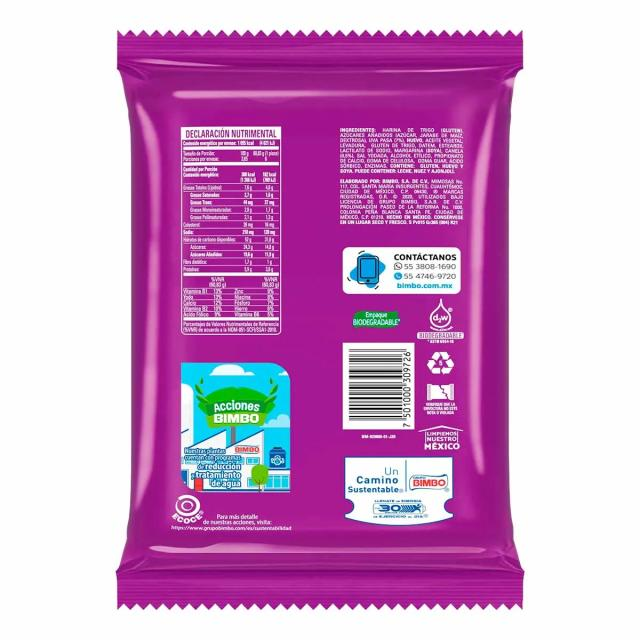Codigo_barras: (343, 345, 416, 430)
